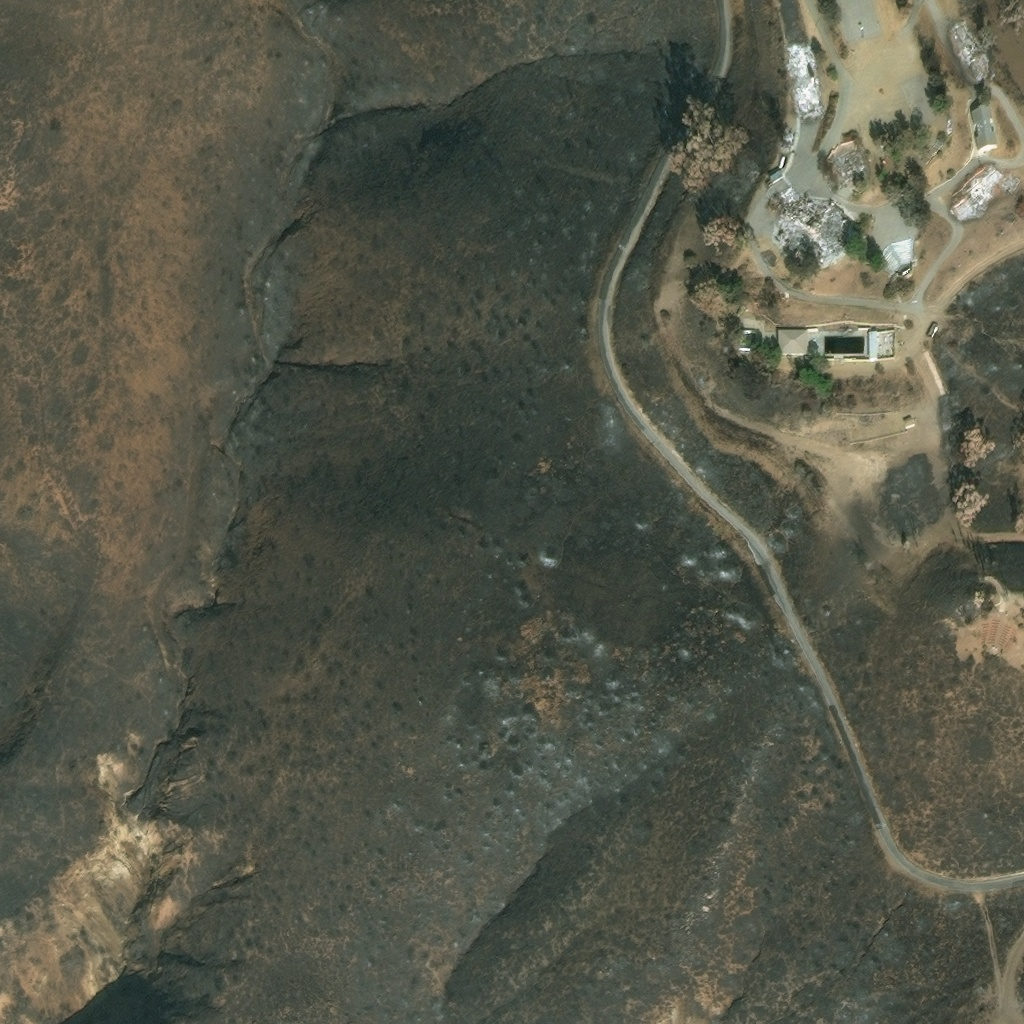0 no-damage: (970, 107, 997, 155), (778, 328, 809, 357), (763, 167, 783, 187), (926, 323, 940, 341), (901, 415, 916, 430), (897, 268, 912, 282)
3 destroyed: (768, 178, 853, 263), (950, 159, 1004, 215), (789, 41, 824, 118), (952, 17, 991, 82), (833, 148, 870, 184), (999, 169, 1022, 194)
